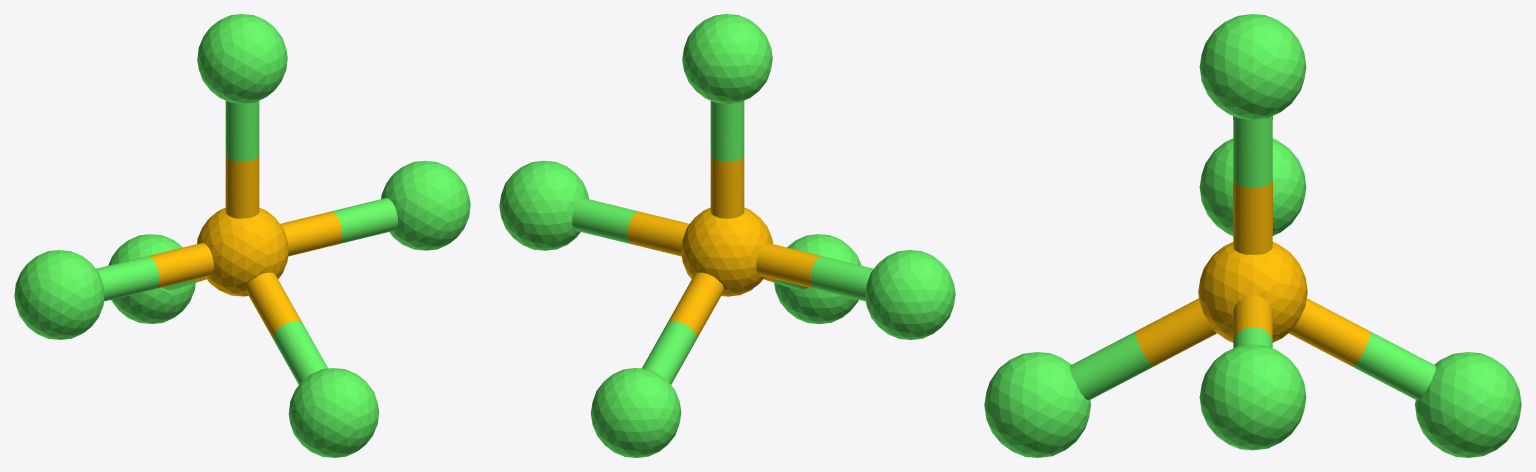
Rendered from PCl5.glb.
3 renders of one model, left to right at view 1: azimuth 30°, elevation 25°; view 2: azimuth 150°, elevation 25°; view 3: azimuth 270°, elevation 25°, orthographic. The views are drawn at different scales.
Visible parts, largest first — view 1: Shape_IndexedFaceSet, Shape_IndexedFaceSet.002, Shape_IndexedFaceSet.004, Shape_IndexedFaceSet.001, Shape_IndexedFaceSet.005, Shape_IndexedFaceSet.003, Shape_IndexedFaceSet.013, Shape_IndexedFaceSet.015, Shape_IndexedFaceSet.016, Shape_IndexedFaceSet.019, Shape_IndexedFaceSet.021, Shape_IndexedFaceSet.008 (+2 smaller); view 2: Shape_IndexedFaceSet, Shape_IndexedFaceSet.002, Shape_IndexedFaceSet.003, Shape_IndexedFaceSet.001, Shape_IndexedFaceSet.005, Shape_IndexedFaceSet.004, Shape_IndexedFaceSet.013, Shape_IndexedFaceSet.015, Shape_IndexedFaceSet.016, Shape_IndexedFaceSet.019, Shape_IndexedFaceSet.021, Shape_IndexedFaceSet.012 (+2 smaller); view 3: Shape_IndexedFaceSet.001, Shape_IndexedFaceSet.002, Shape_IndexedFaceSet.003, Shape_IndexedFaceSet.004, Shape_IndexedFaceSet.005, Shape_IndexedFaceSet, Shape_IndexedFaceSet.006, Shape_IndexedFaceSet.010, Shape_IndexedFaceSet.008, Shape_IndexedFaceSet.012, Shape_IndexedFaceSet.013, Shape_IndexedFaceSet.015 (+2 smaller).
Boxes of the visible parts, box(x1,y1,x2,y2) form: Shape_IndexedFaceSet: box(14, 250, 104, 339); Shape_IndexedFaceSet.002: box(197, 14, 287, 103); Shape_IndexedFaceSet.004: box(288, 368, 378, 457); Shape_IndexedFaceSet.001: box(381, 160, 470, 250); Shape_IndexedFaceSet.005: box(197, 207, 288, 296); Shape_IndexedFaceSet.003: box(108, 234, 195, 323); Shape_IndexedFaceSet.013: box(225, 101, 259, 161); Shape_IndexedFaceSet.015: box(225, 156, 259, 218); Shape_IndexedFaceSet.016: box(331, 198, 397, 243); Shape_IndexedFaceSet.019: box(96, 256, 159, 301); Shape_IndexedFaceSet.021: box(148, 243, 213, 288); Shape_IndexedFaceSet.008: box(246, 272, 302, 339); Shape_IndexedFaceSet: box(865, 250, 955, 339); Shape_IndexedFaceSet.002: box(682, 14, 772, 103); Shape_IndexedFaceSet.003: box(590, 368, 681, 457); Shape_IndexedFaceSet.001: box(499, 160, 588, 250); Shape_IndexedFaceSet.005: box(681, 207, 772, 296); Shape_IndexedFaceSet.004: box(774, 234, 861, 323); Shape_IndexedFaceSet.013: box(710, 101, 744, 161); Shape_IndexedFaceSet.015: box(710, 156, 744, 218); Shape_IndexedFaceSet.016: box(572, 198, 638, 243); Shape_IndexedFaceSet.019: box(810, 256, 873, 301); Shape_IndexedFaceSet.021: box(756, 243, 821, 288); Shape_IndexedFaceSet.012: box(667, 272, 723, 339); Shape_IndexedFaceSet.001: box(1199, 344, 1306, 450); Shape_IndexedFaceSet.002: box(1199, 14, 1306, 119); Shape_IndexedFaceSet.003: box(1415, 352, 1521, 457); Shape_IndexedFaceSet.004: box(984, 352, 1090, 457); Shape_IndexedFaceSet.005: box(1198, 242, 1307, 342); Shape_IndexedFaceSet: box(1199, 138, 1306, 235); Shape_IndexedFaceSet.006: box(1070, 331, 1153, 400); Shape_IndexedFaceSet.010: box(1352, 331, 1435, 400); Shape_IndexedFaceSet.008: box(1135, 298, 1216, 366); Shape_IndexedFaceSet.012: box(1289, 298, 1370, 366); Shape_IndexedFaceSet.013: box(1233, 116, 1272, 187); Shape_IndexedFaceSet.015: box(1233, 180, 1272, 254).
Size of the model in its own units: 0.5396 by 0.4286 by 0.4801.
